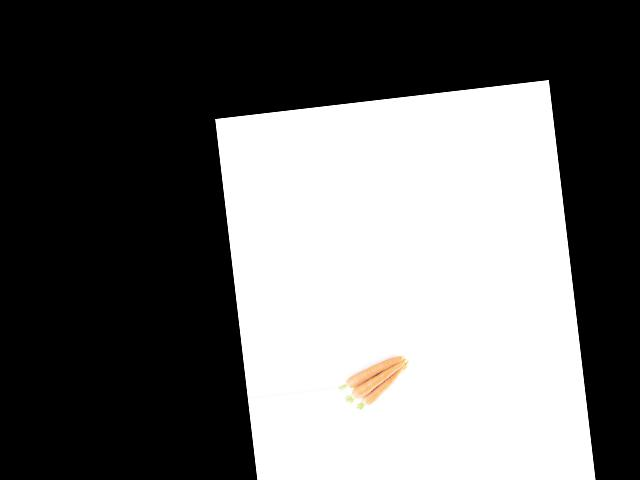carrot: (345, 356, 405, 390)
